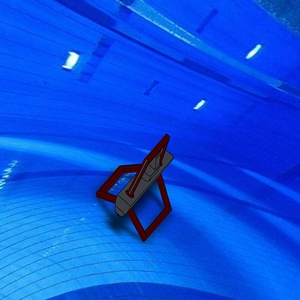submarine: (87, 127, 187, 241)
